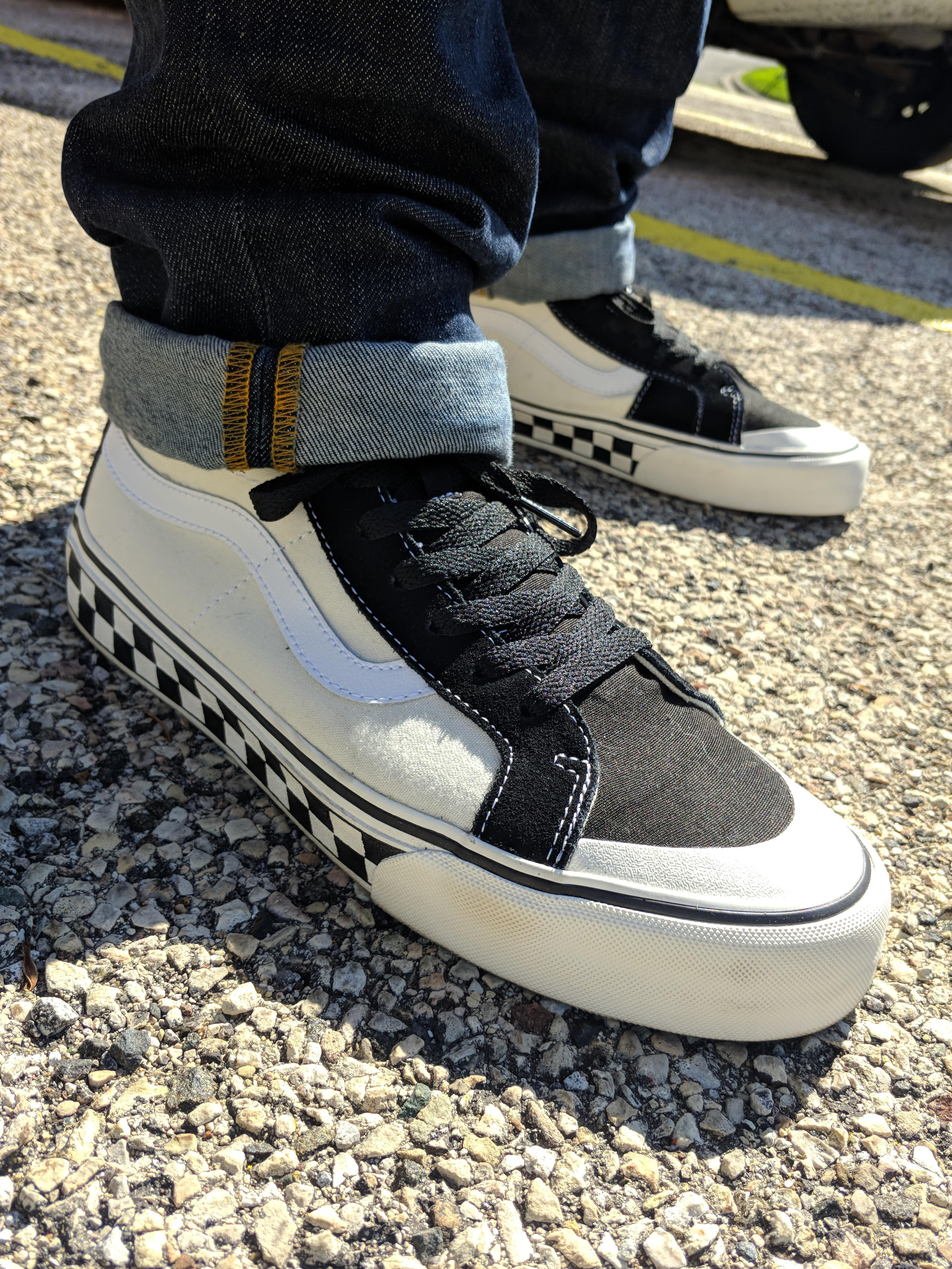sneaker: (75, 169, 900, 1164), (527, 46, 894, 581)
